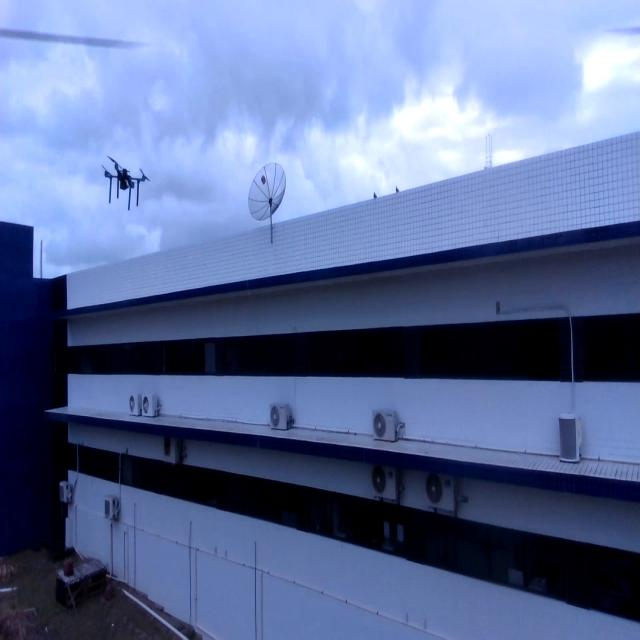-uav-: (97, 145, 154, 216)
